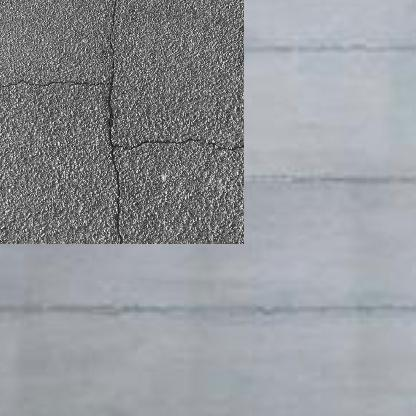Cracks: (0, 0, 225, 209), (106, 210, 114, 226)
